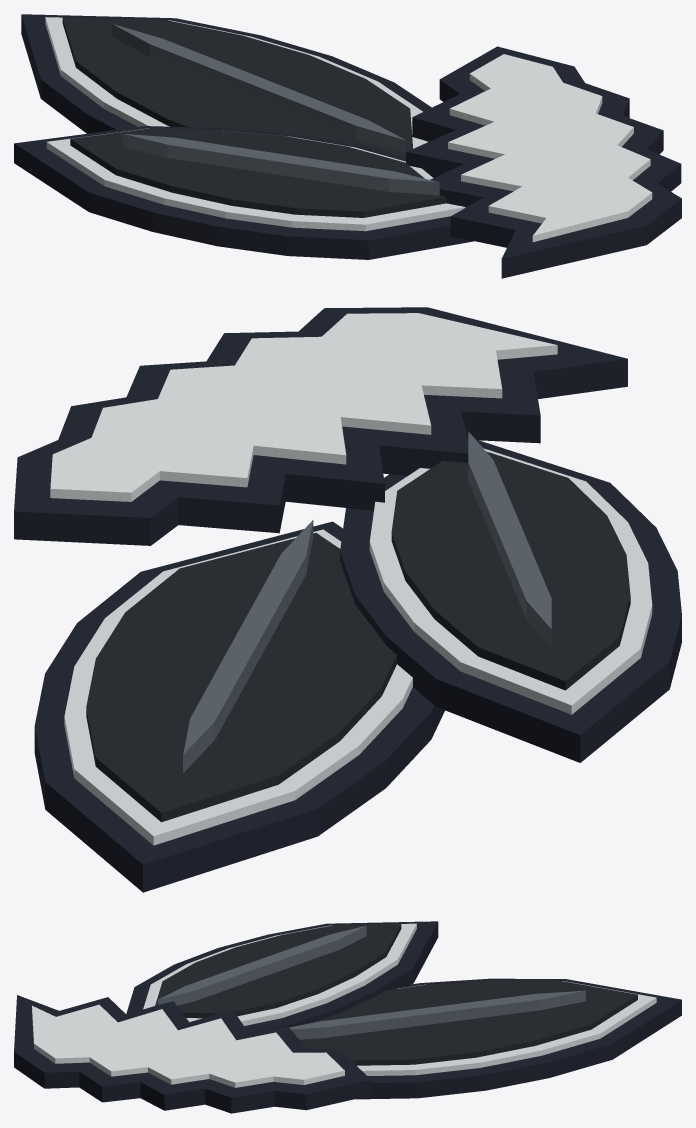
File: penguin_feather.fbx
3 renders of one model, top to bottom at view 1: azimuth 30°, elevation 25°; view 2: azimuth 150°, elevation 25°; view 3: azimuth 270°, elevation 25°, orthographic. The views are drawn at different scales.
Visible parts, largest first — view 1: penguin_feather; view 2: penguin_feather; view 3: penguin_feather.
Boxes of the visible parts, box(x1,y1,x2,y2) form: penguin_feather: box(14, 14, 681, 278); penguin_feather: box(14, 307, 681, 892); penguin_feather: box(14, 921, 681, 1113).
Bounding box in the file's own units: 0.7762 × 0.1 × 1.14.
1 material, 1 textured.
